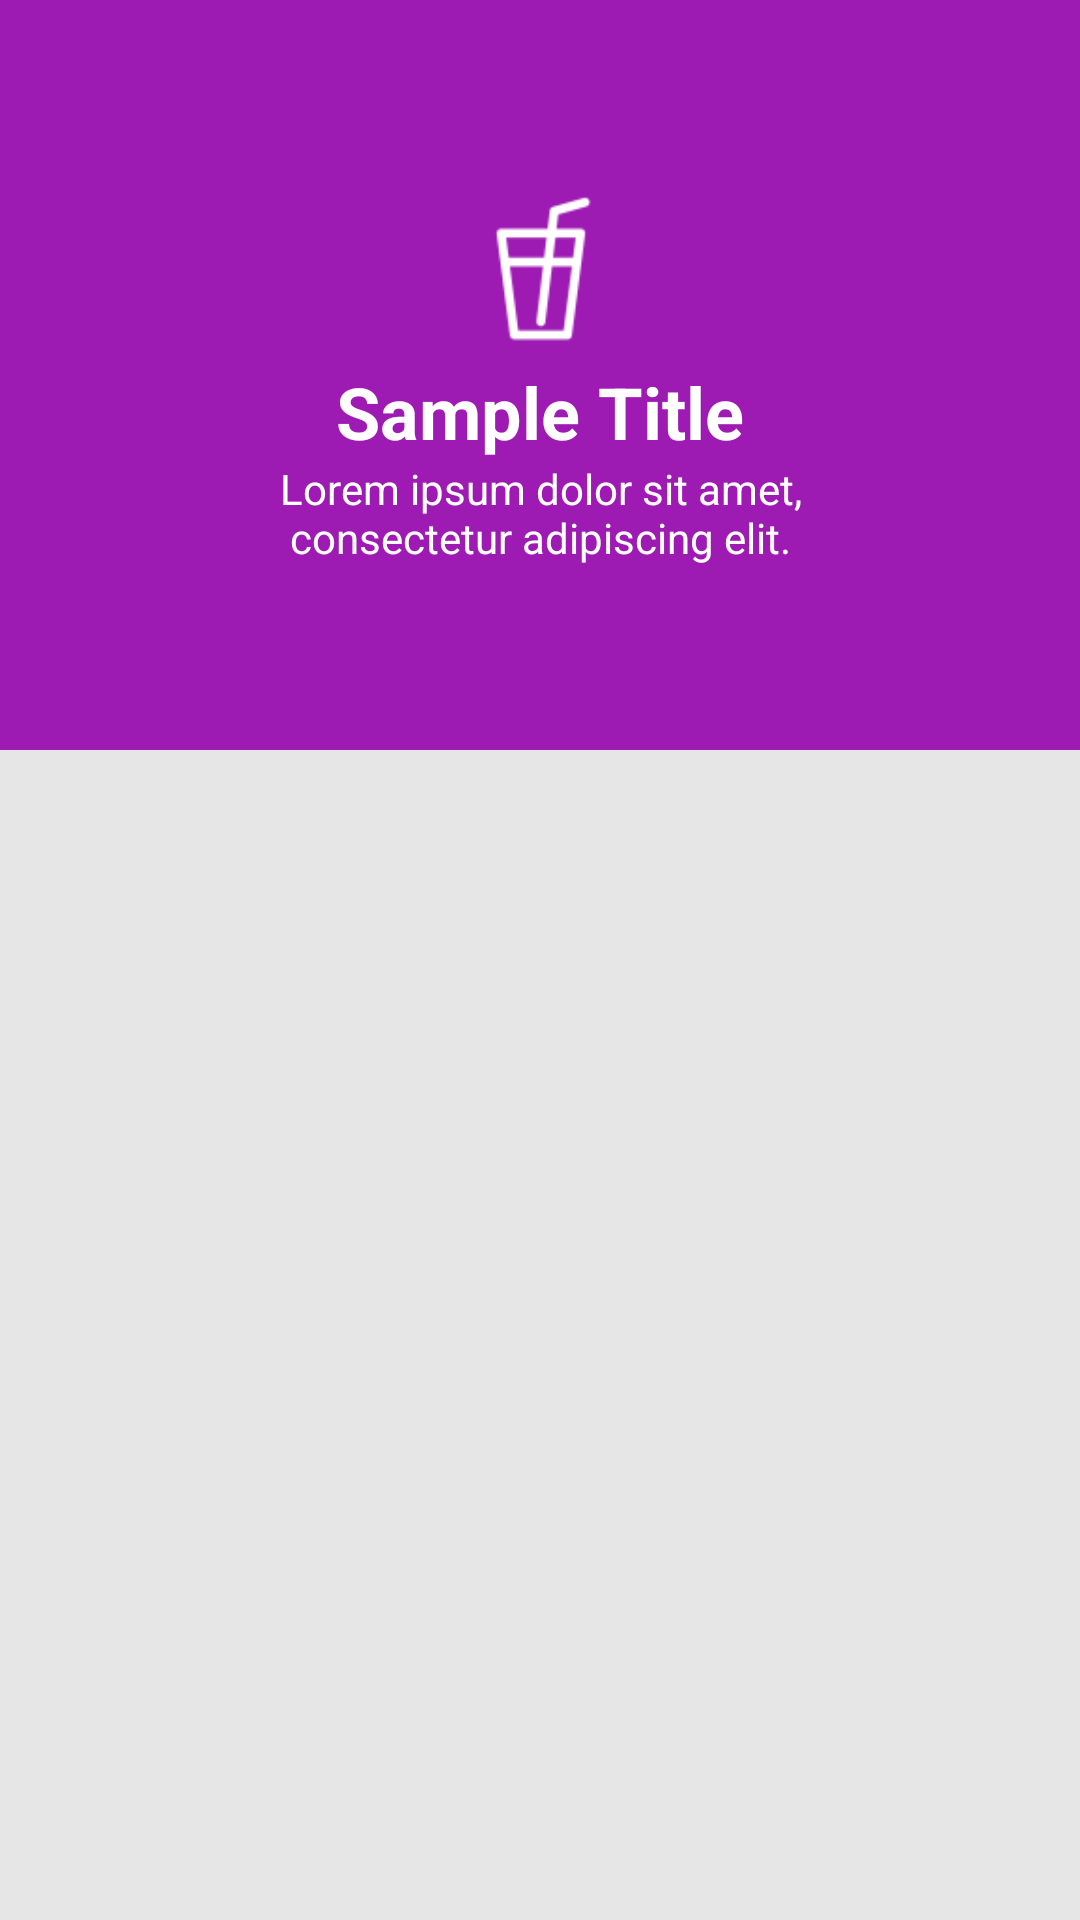

Point at icon controls on the screen. Image size 1080 × 1920, points as [x,y].
drink: [543,269]
